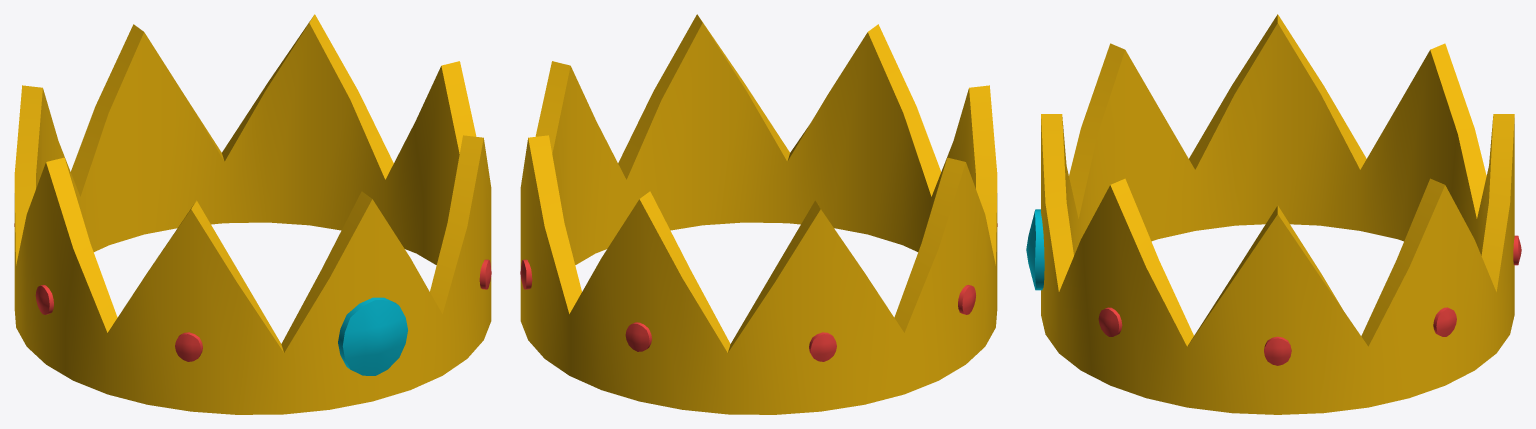
File: crown.fbx
The picture shows the model from 3 angles, left to right: view 1: azimuth 30°, elevation 25°; view 2: azimuth 150°, elevation 25°; view 3: azimuth 270°, elevation 25°; orthographic projection.
Parts seen in each view (by area): view 1: Circle.1810; view 2: Circle.1810; view 3: Circle.1810.
Boxes of the visible parts, left/top/right/bottom form: Circle.1810: left=14, top=14, right=491, bottom=414; Circle.1810: left=520, top=14, right=997, bottom=414; Circle.1810: left=1026, top=14, right=1521, bottom=414.
Size of the model in its own units: 205 by 93.43 by 209.
1 material, 1 textured.
